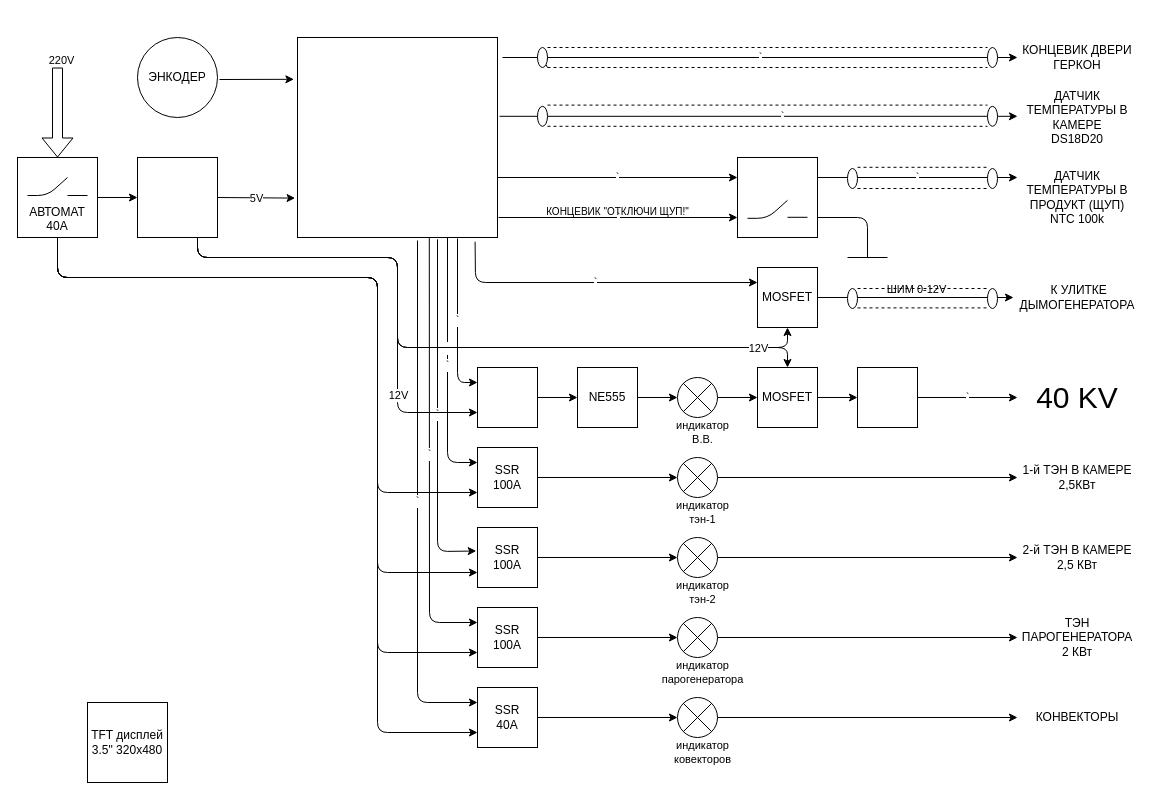
The diagram is 1155 pixels wide and 800 high, and some of its shapes have lost their labels. Each missing label, with the centre of its shape:
"ATmega2560" goes at (x=397, y=137).
"SSR 2A" goes at (x=507, y=397).
"БЛОК ПИТАНИЯ 12V + 5V" goes at (x=177, y=197).
"В.В. Тр-р + Конденсатор" goes at (x=887, y=397).
"РАЗЪЕМ" goes at (x=777, y=197).
